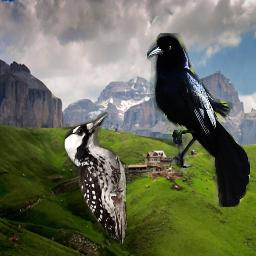Crow: (147, 33, 250, 207)
Woodpecker: (61, 112, 127, 244)
